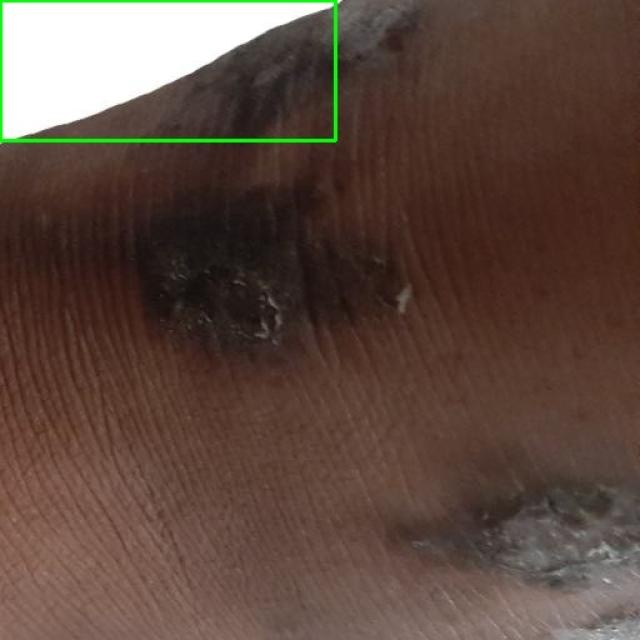Contact Dermatitis: (0, 0, 335, 140)
